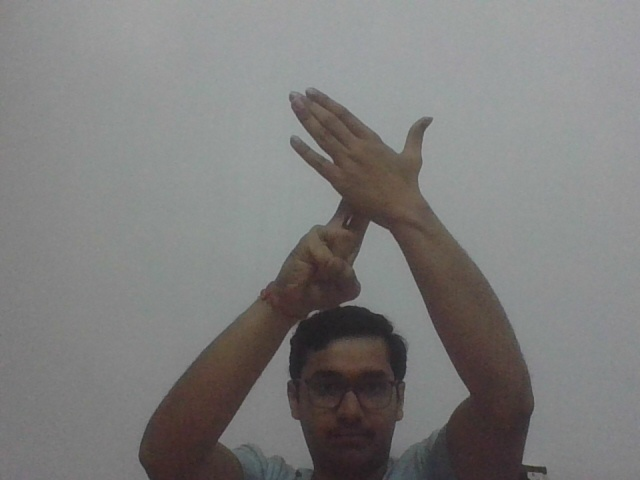N: (270, 80, 433, 308)
